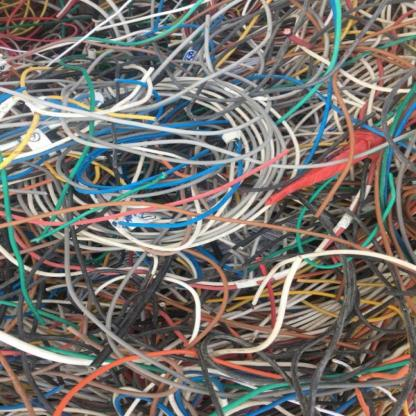wires: (0, 1, 415, 414)
